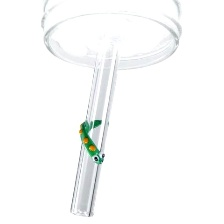drinking_straw: (65, 30, 123, 221)
glass: (33, 0, 190, 77)
